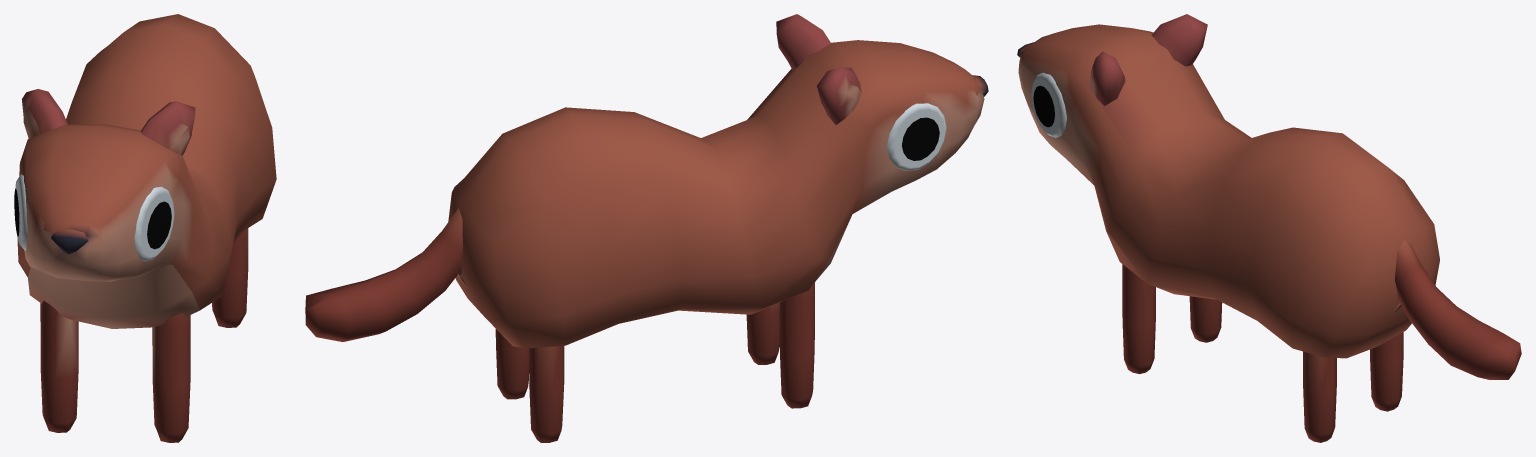
Rendered from Marten.glb.
3 renders of one model, left to right at view 1: azimuth 30°, elevation 25°; view 2: azimuth 150°, elevation 25°; view 3: azimuth 270°, elevation 25°, orthographic. The views are drawn at different scales.
Visible parts, largest first — view 1: 99; view 2: 99; view 3: 99.
Boxes of the visible parts, x1,y1,x2,y2 form: 99: [14, 14, 276, 442]; 99: [305, 14, 988, 442]; 99: [1017, 14, 1521, 442].
Bounding box in the file's own units: 0.8191 × 0.6133 × 0.9006.
